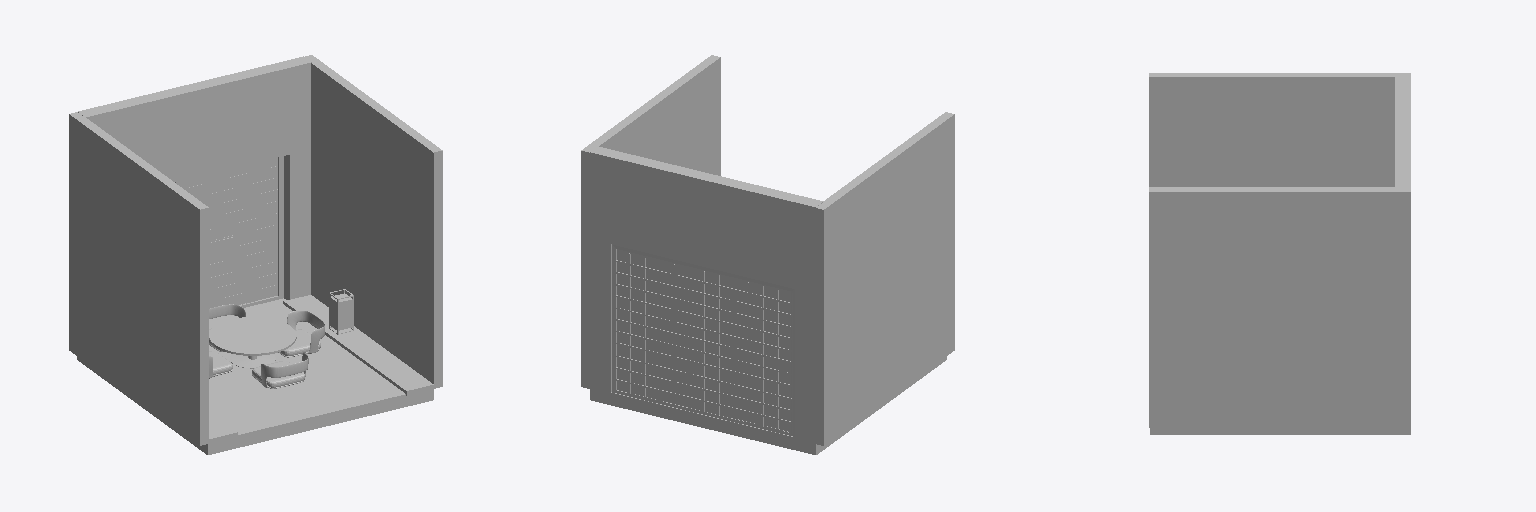
File: pokoj japonski2.obj
The picture shows the model from 3 angles: view 1: azimuth 30°, elevation 25°; view 2: azimuth 150°, elevation 25°; view 3: azimuth 270°, elevation 25°; orthographic projection.
Parts seen in each view (by area): view 1: lewa_sciana_Cube.002, prawa_sciana_Cube.001, sciana_okno_Cube, pdloga_Cube.005, szyba_Plane.001, Cylinder, Cube.003_Cube.009, na_szybie_Plane.002, framuga_Cube.003, Cube.004_Cube.010, Cube.008_Cube.014, Cube.014_Cube.020 (+2 smaller); view 2: lewa_sciana_Cube.002, sciana_okno_Cube, szyba_Plane.001, prawa_sciana_Cube.001, na_szybie_Plane.002, pdloga_Cube.005, framuga_Cube.003; view 3: prawa_sciana_Cube.001, lewa_sciana_Cube.002, pdloga_Cube.005, sciana_okno_Cube.
Part boxes in pixels (x1,y1,x2,y2): lewa_sciana_Cube.002: (69,112,208,445); prawa_sciana_Cube.001: (305,55,442,388); sciana_okno_Cube: (78,56,311,299); pdloga_Cube.005: (77,298,433,454); szyba_Plane.001: (177,158,277,308); Cylinder: (209,317,296,368); Cube.003_Cube.009: (283,295,434,395); na_szybie_Plane.002: (175,161,277,304); framuga_Cube.003: (239,156,283,307); Cube.004_Cube.010: (278,311,324,357); Cube.008_Cube.014: (252,353,308,388); Cube.014_Cube.020: (330,293,352,329); lewa_sciana_Cube.002: (815,112,954,445); sciana_okno_Cube: (590,146,823,443); szyba_Plane.001: (617,251,790,431); prawa_sciana_Cube.001: (581,55,720,388); na_szybie_Plane.002: (616,253,792,433); pdloga_Cube.005: (590,357,946,454); framuga_Cube.003: (612,245,794,436); prawa_sciana_Cube.001: (1149,187,1410,427); lewa_sciana_Cube.002: (1149,73,1410,186); pdloga_Cube.005: (1150,428,1410,434); sciana_okno_Cube: (1395,77,1410,186).
Bounding box in the file's own units: 28.17 × 27.5 × 26.32.